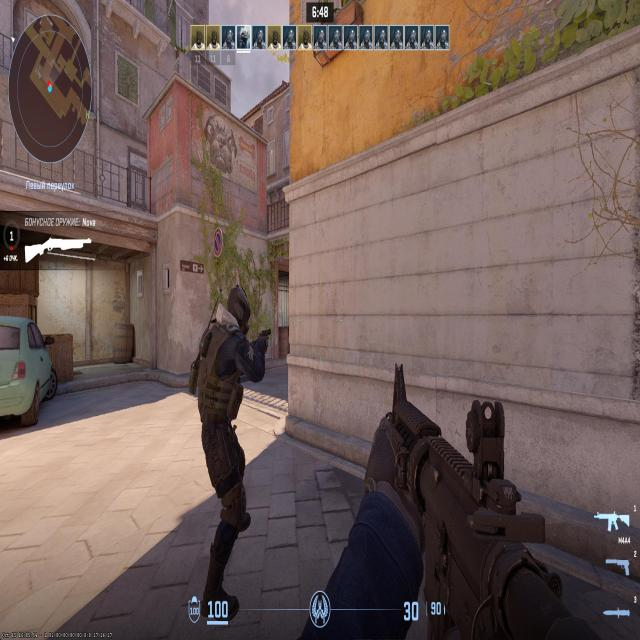CT: (208, 290, 248, 560)
CT_heat: (224, 291, 238, 329)
